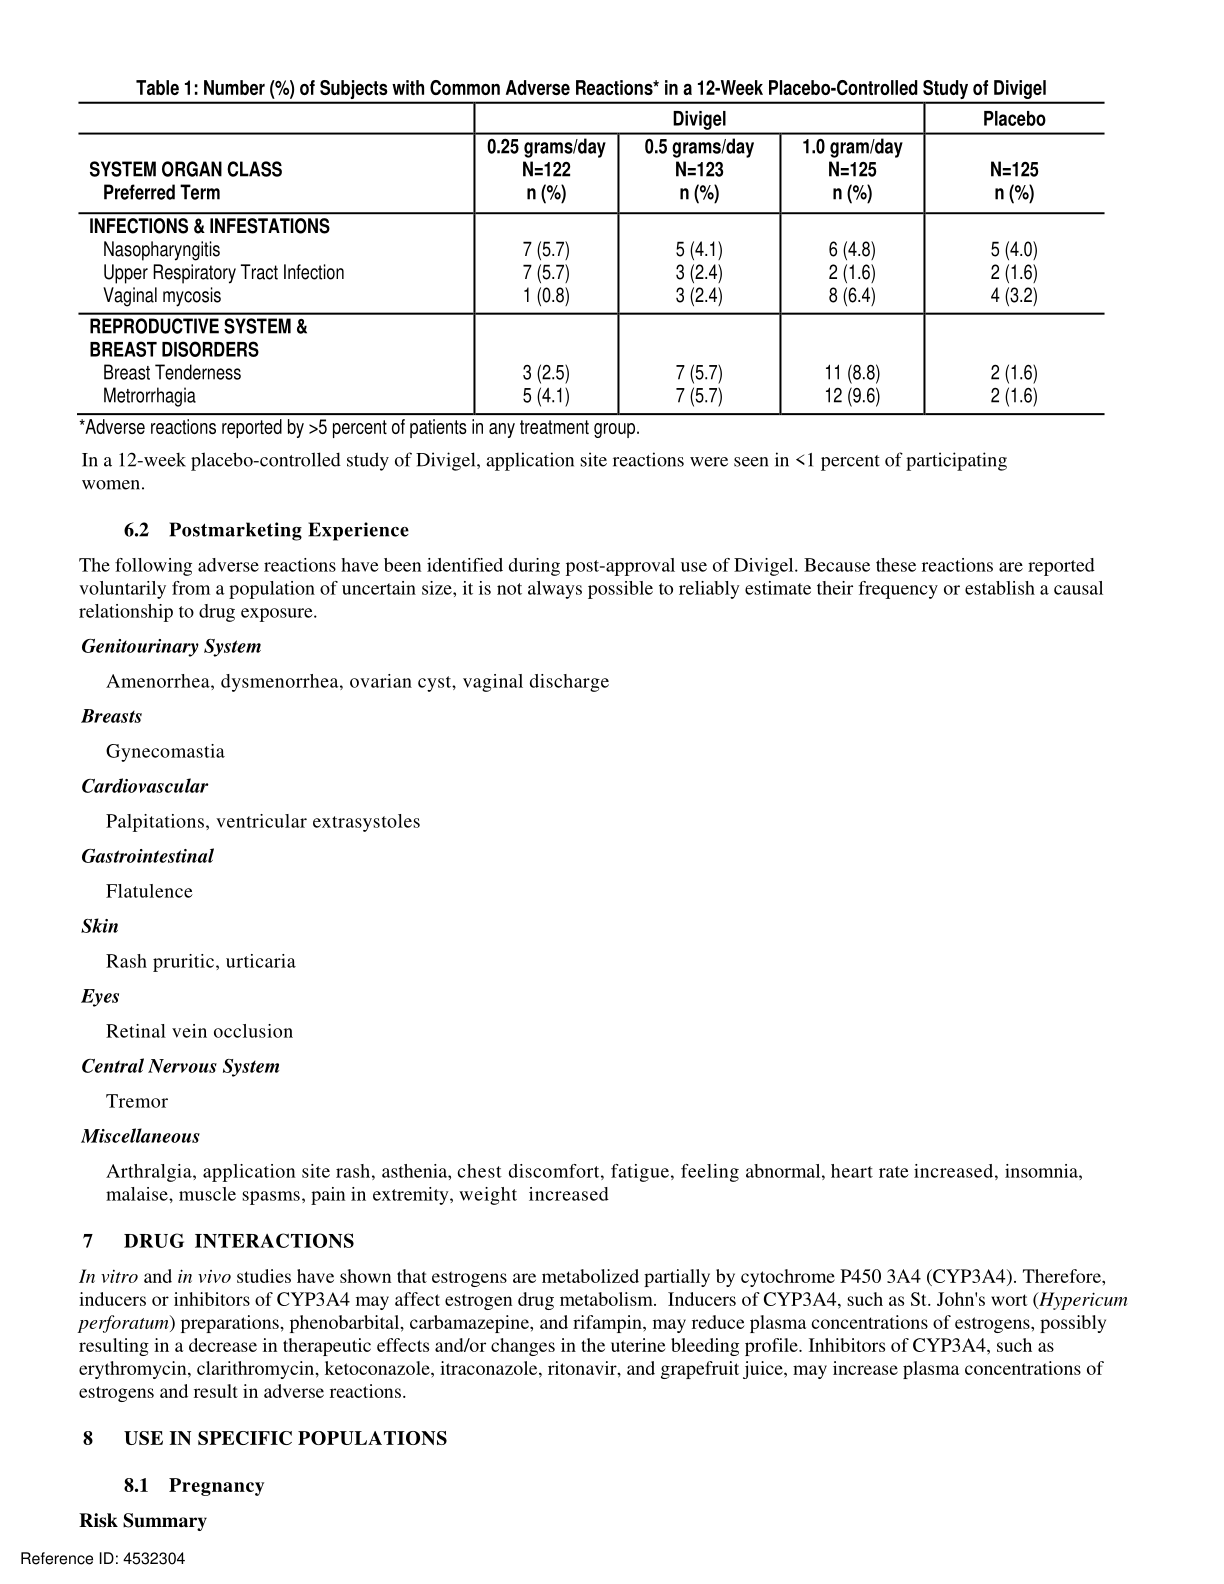partial_lined_merged_cells: (76, 102, 1104, 417)
